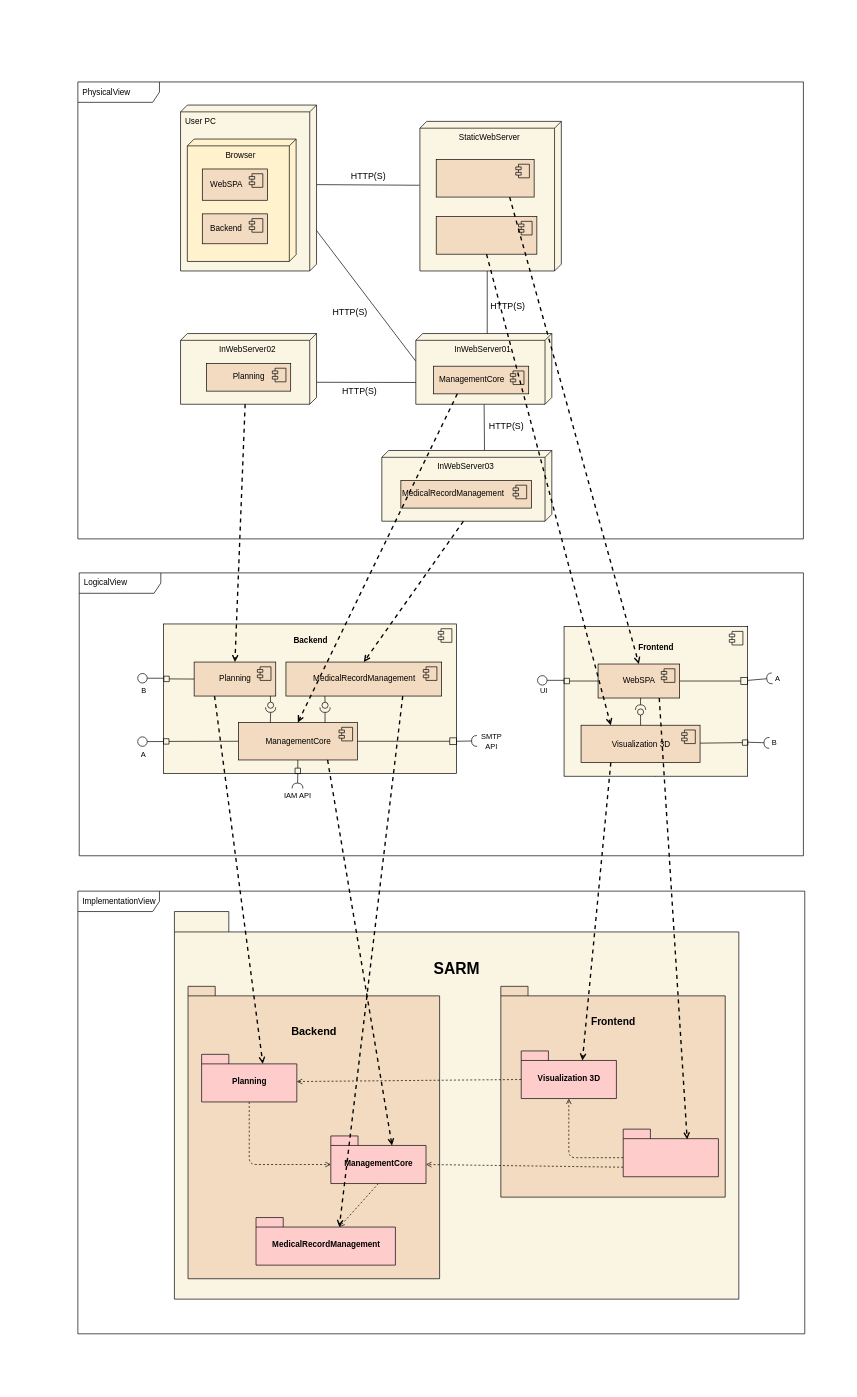
This 857x1397 diagram has some shape labels left out. The centre of each missing label's shape, as x and y in pixels:
Web SPA: [670,1152]
«Artifacts» 3D Visualization: [486,235]
«Artifacts» WebSPA: [485,178]
